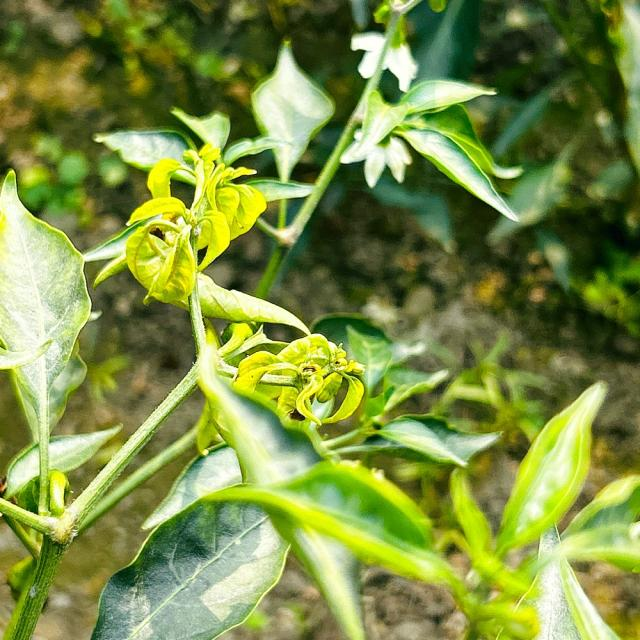Chilli_Leaf_Curl: (1, 3, 636, 638), (90, 446, 292, 638), (0, 168, 93, 514), (338, 77, 524, 223), (121, 142, 267, 309), (494, 379, 608, 559), (232, 331, 366, 429), (249, 39, 336, 181), (514, 524, 620, 639)
